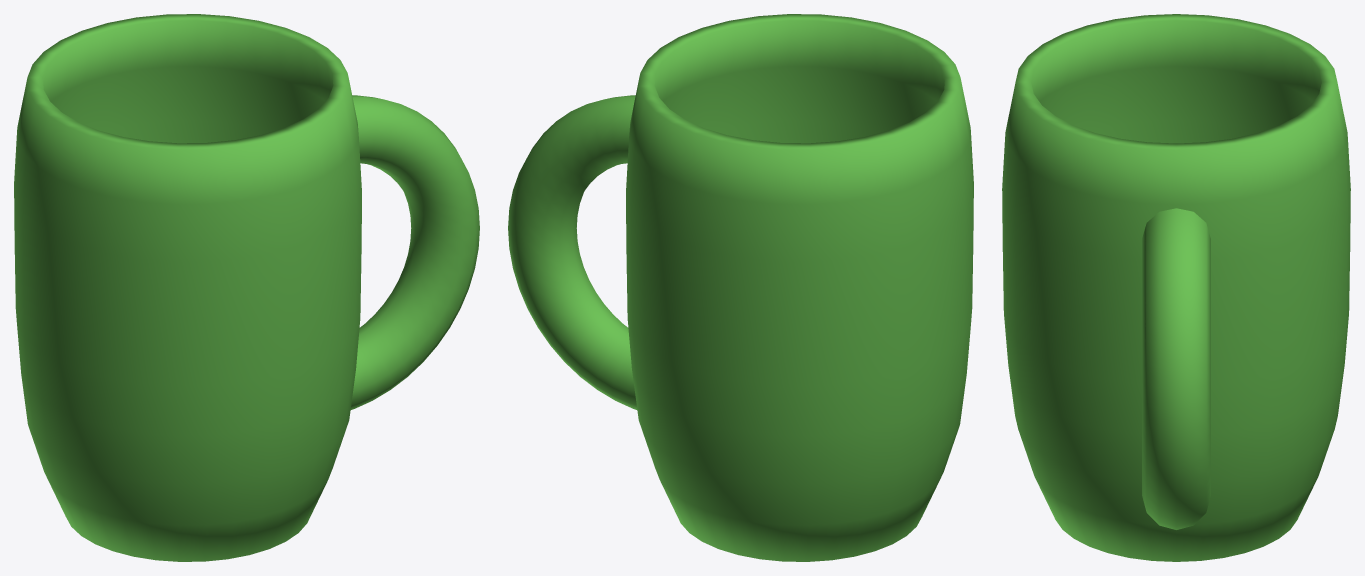
Rendered from Gelas.fbx.
The picture shows the model from 3 angles, left to right: view 1: azimuth 30°, elevation 25°; view 2: azimuth 150°, elevation 25°; view 3: azimuth 270°, elevation 25°; orthographic projection.
Visible parts, largest first — view 1: Gelas.009; view 2: Gelas.009; view 3: Gelas.009.
Boxes of the visible parts, x1=… form: Gelas.009: x1=14, y1=14, x2=479, y2=561; Gelas.009: x1=508, y1=14, x2=973, y2=561; Gelas.009: x1=1002, y1=14, x2=1350, y2=561.
Bounding box in the file's own units: 326 × 305 × 225.
